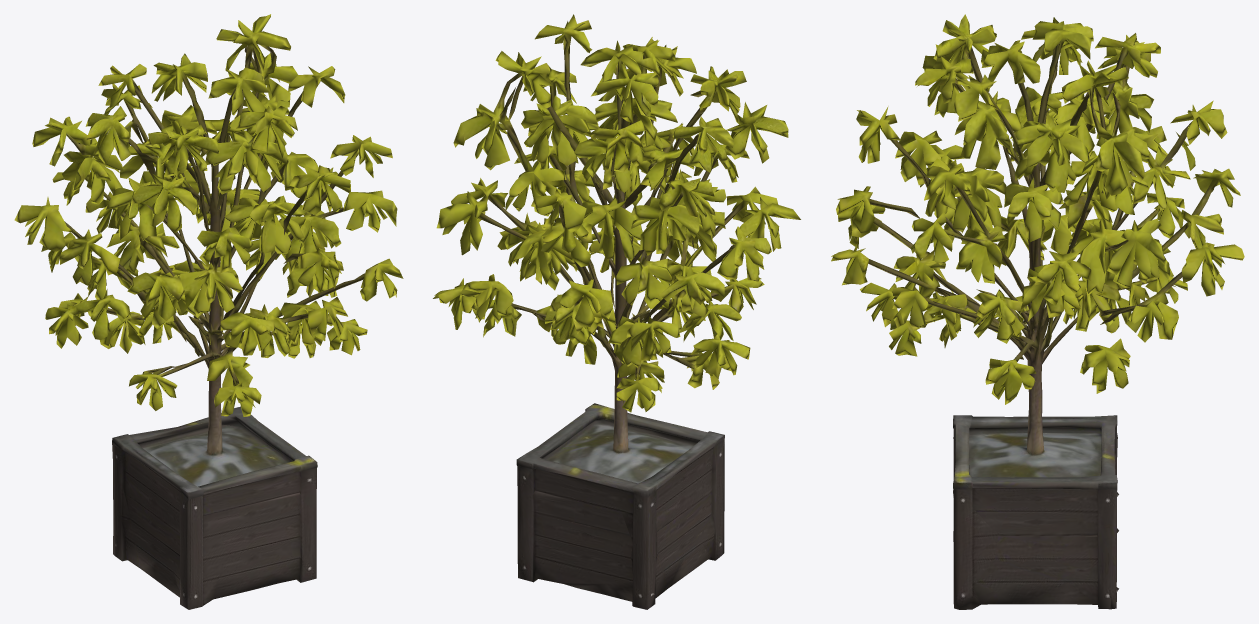
File: prop.tree.glb
3 renders of one model, left to right at view 1: azimuth 30°, elevation 25°; view 2: azimuth 150°, elevation 25°; view 3: azimuth 270°, elevation 25°, orthographic. The views are drawn at different scales.
Visible parts, largest first — view 1: tripo_node_cb71899c-565d-4c19-8c09-4fab1451fde2; view 2: tripo_node_cb71899c-565d-4c19-8c09-4fab1451fde2; view 3: tripo_node_cb71899c-565d-4c19-8c09-4fab1451fde2.
Part boxes in pixels (x1,y1,x2,y2): tripo_node_cb71899c-565d-4c19-8c09-4fab1451fde2: [14, 14, 403, 609]; tripo_node_cb71899c-565d-4c19-8c09-4fab1451fde2: [433, 14, 800, 609]; tripo_node_cb71899c-565d-4c19-8c09-4fab1451fde2: [831, 14, 1244, 609].
Bounding box in the file's own units: 0.6062 × 1 × 0.6824.
Materials: 1 (1 with a texture image).
